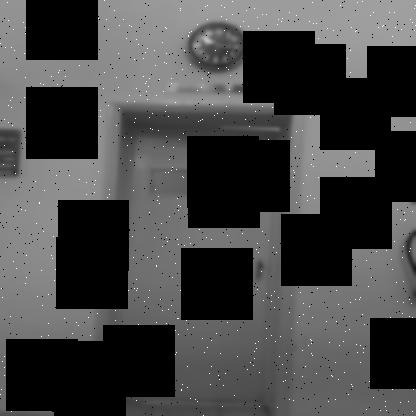Porte: (86, 99, 306, 416)
